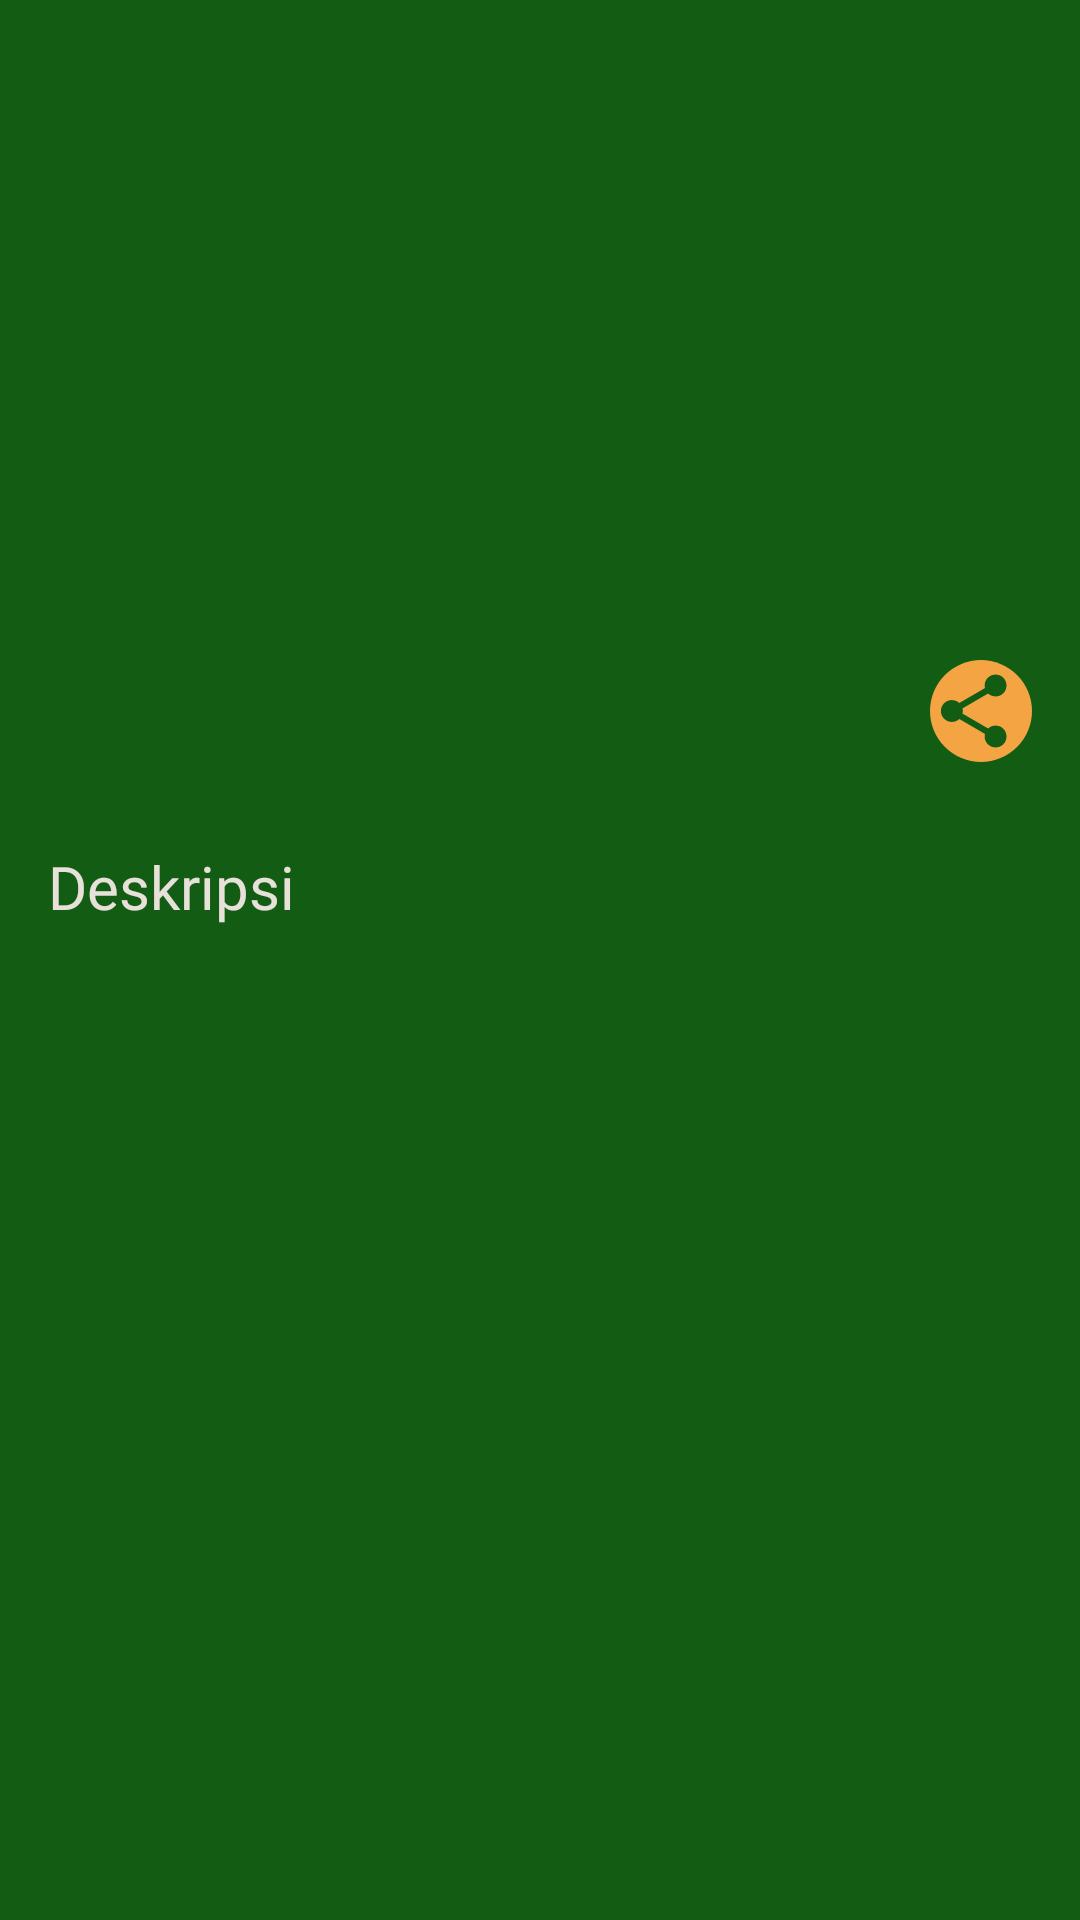

Icons on this 1080px×1920px Android screen, each with the point to tap as (x=x, y=y):
shareicon: (x=981, y=711)
